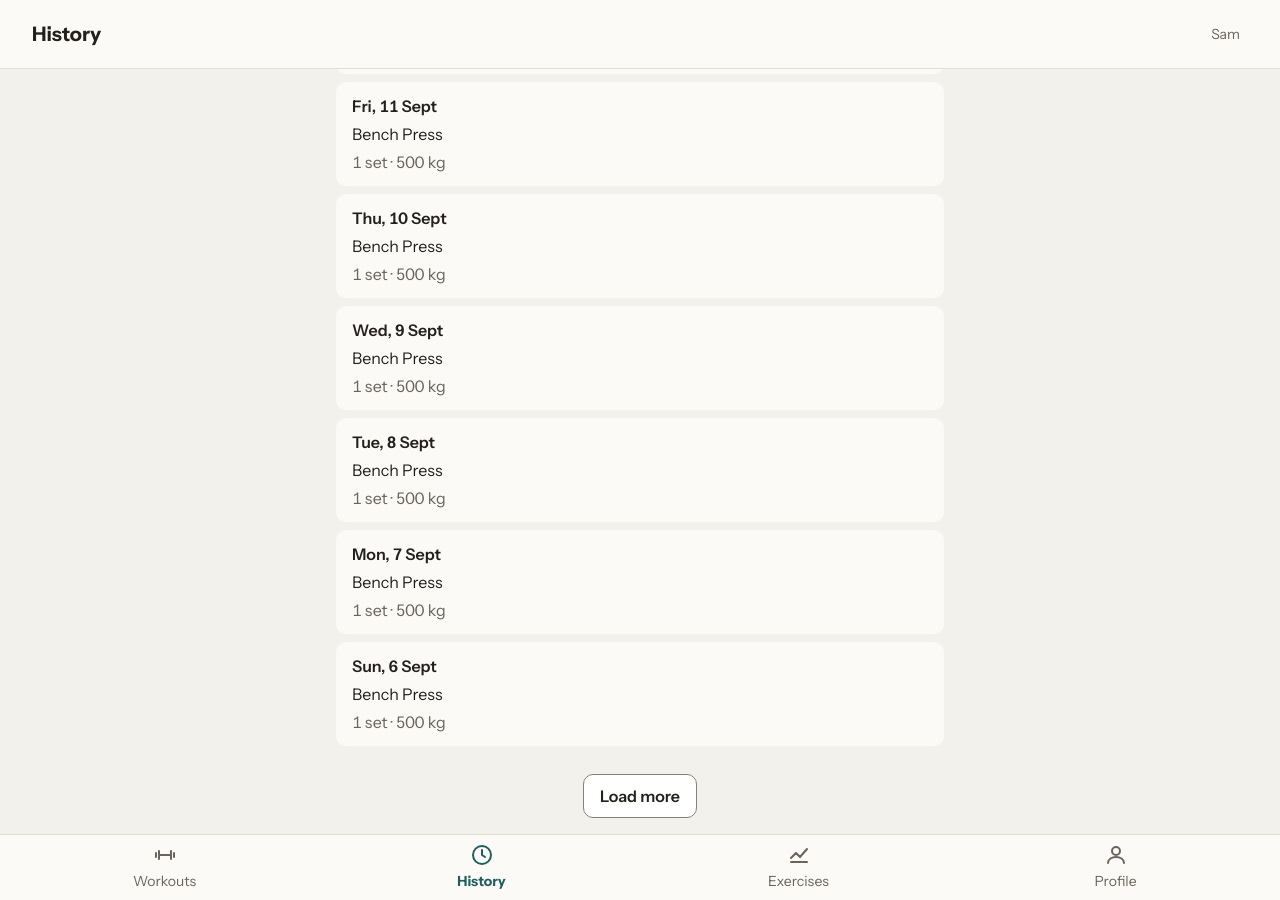
08.0 AC13 — Load more, and the end › appends the next page with the first page's cursor, then disappears at next: null
(page scrolled)
Click the button "Load more" at [640, 796], box [583,774,697,818]
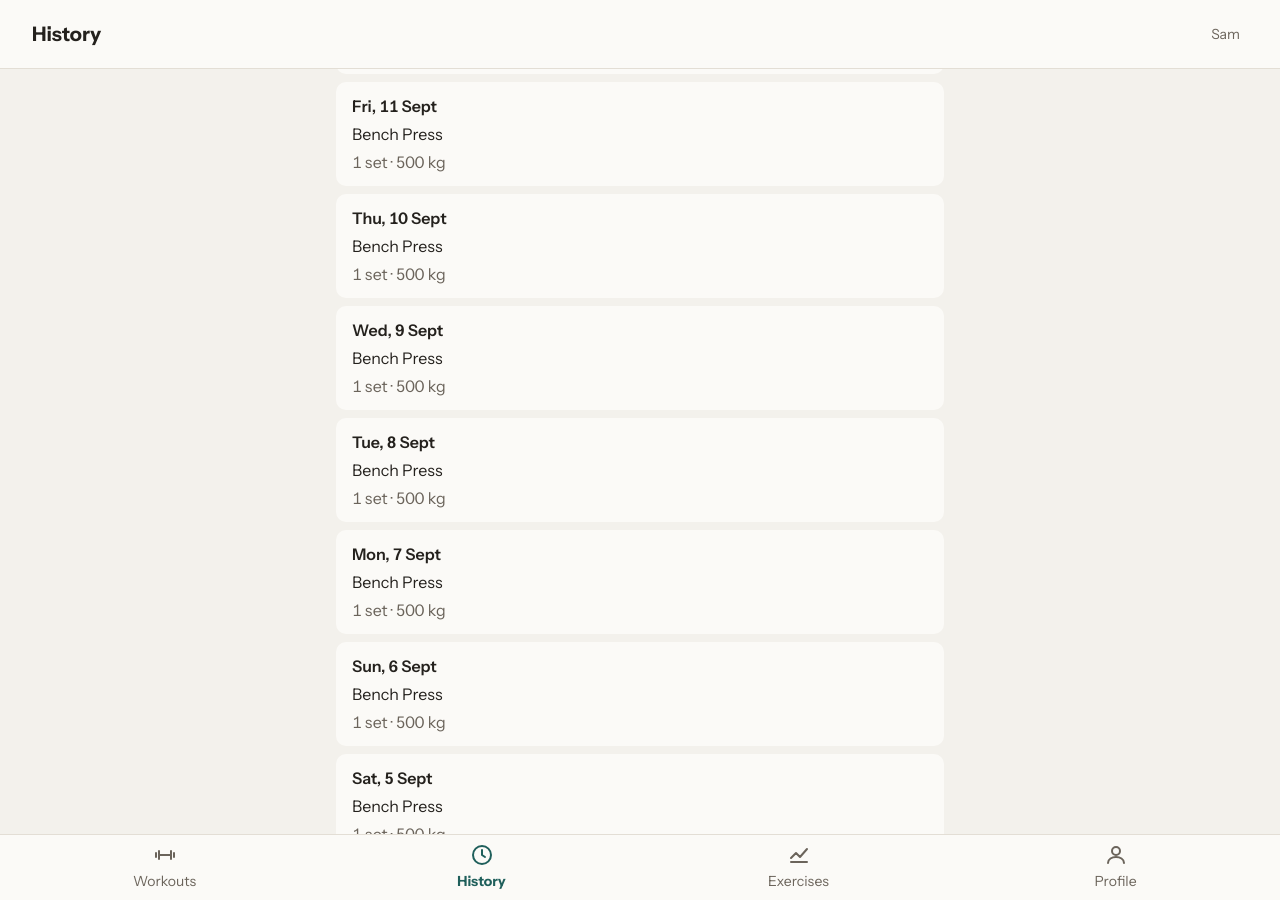
Expected: the button "Load more" is gone
